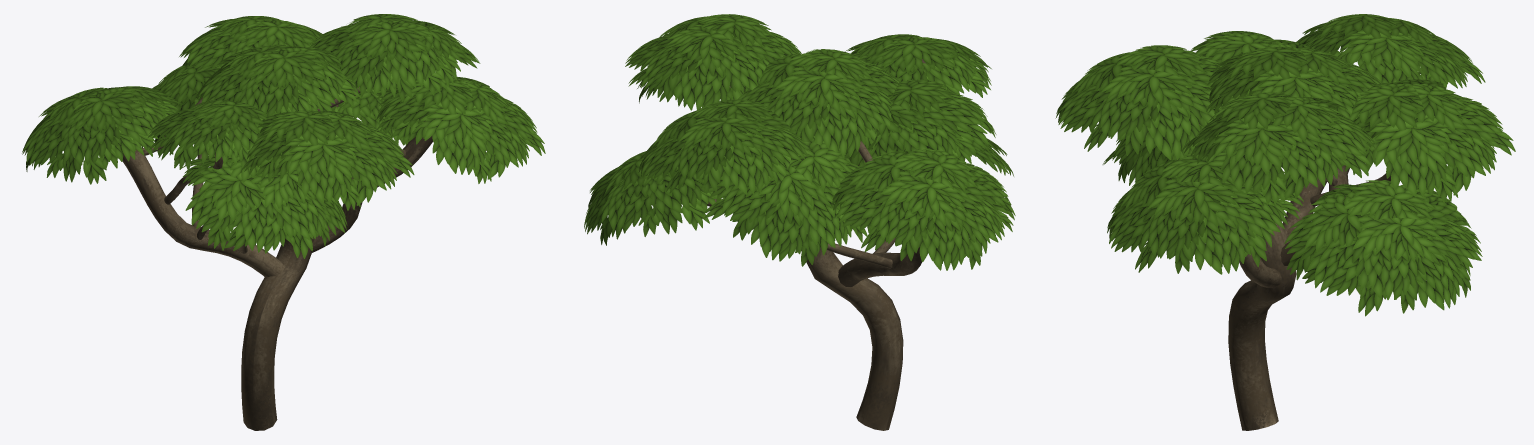
File: Tree2.fbx
3 renders of one model, left to right at view 1: azimuth 30°, elevation 25°; view 2: azimuth 150°, elevation 25°; view 3: azimuth 270°, elevation 25°, orthographic. The views are drawn at different scales.
Parts seen in each view (by area): view 1: TreeB_M_Leaves_0, TreeB_M_Tree_Wood_0; view 2: TreeB_M_Leaves_0, TreeB_M_Tree_Wood_0; view 3: TreeB_M_Leaves_0, TreeB_M_Tree_Wood_0.
Part boxes in pixels (x1=…): TreeB_M_Leaves_0: x1=22, y1=14, x2=545, y2=258; TreeB_M_Tree_Wood_0: x1=122, y1=87, x2=435, y2=430; TreeB_M_Leaves_0: x1=584, y1=14, x2=1015, y2=270; TreeB_M_Tree_Wood_0: x1=707, y1=59, x2=925, y2=430; TreeB_M_Leaves_0: x1=1055, y1=14, x2=1515, y2=316; TreeB_M_Tree_Wood_0: x1=1199, y1=124, x2=1390, y2=430.
Bounding box in the file's own units: 91.2 × 74.08 × 78.24.
